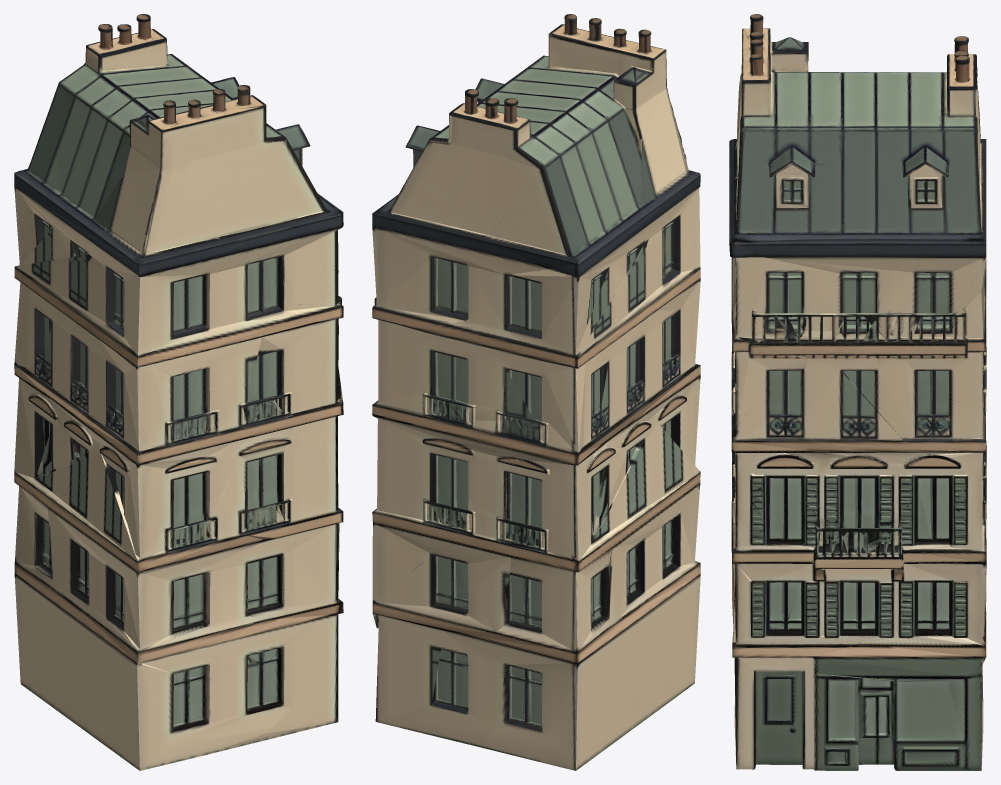
File: building4.glb
3 renders of one model, left to right at view 1: azimuth 30°, elevation 25°; view 2: azimuth 150°, elevation 25°; view 3: azimuth 270°, elevation 25°, orthographic. The views are drawn at different scales.
Visible parts, largest first — view 1: output_unwrapped; view 2: output_unwrapped; view 3: output_unwrapped.
Part boxes in pixels (x1,y1,x2,y2): output_unwrapped: [14, 14, 343, 770]; output_unwrapped: [372, 14, 700, 770]; output_unwrapped: [729, 14, 986, 770].
Bounding box in the file's own units: 0.7032 × 2 × 0.6932.
Materials: 1 (1 with a texture image).
